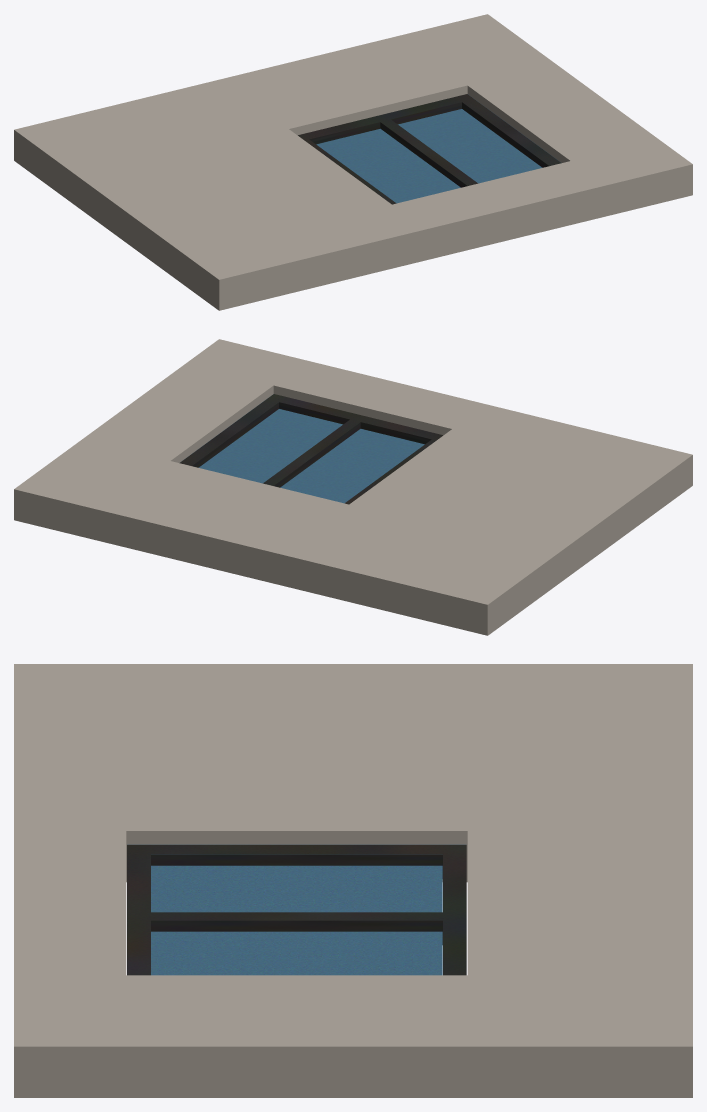
File: wall_window.obj
3 renders of one model, top to bottom at view 1: azimuth 30°, elevation 25°; view 2: azimuth 150°, elevation 25°; view 3: azimuth 270°, elevation 25°, orthographic. The views are drawn at different scales.
Parts seen in each view (by area): view 1: wall, window; view 2: wall, window; view 3: wall, window.
Part boxes in pixels (x1,y1,x2,y2): wall: [14, 14, 692, 310]; window: [298, 94, 561, 204]; wall: [14, 339, 692, 635]; window: [179, 394, 442, 504]; wall: [14, 664, 692, 1097]; window: [127, 844, 466, 975].
Size of the model in its own units: 4 by 0.25 by 3.
